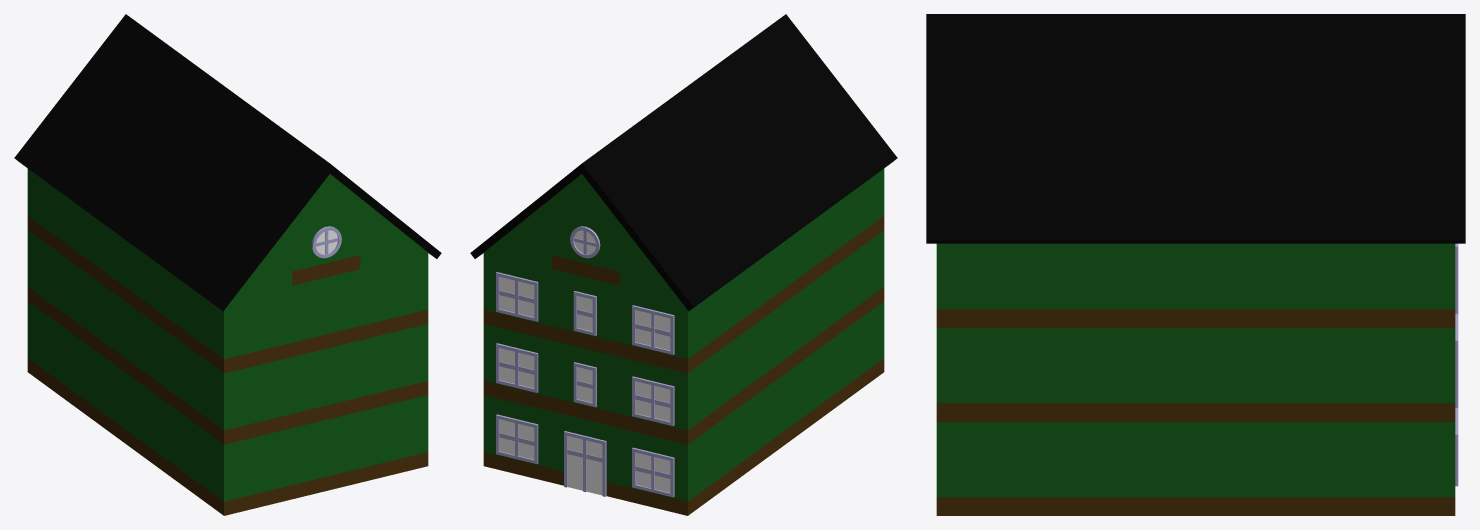
Rendered from generic_house_2.fbx.
3 views of the same model, side by side, from view 1: azimuth 30°, elevation 25°; view 2: azimuth 150°, elevation 25°; view 3: azimuth 270°, elevation 25° (orthographic). The views are drawn at different scales.
Visible parts, largest first — view 1: mergedBlocks; view 2: mergedBlocks; view 3: mergedBlocks.
Boxes of the visible parts, x1,y1,x2,y2 form: mergedBlocks: (14, 14, 441, 515); mergedBlocks: (470, 14, 897, 515); mergedBlocks: (926, 14, 1465, 515).
Size of the model in its own units: 32.83 by 46.41 by 52.
